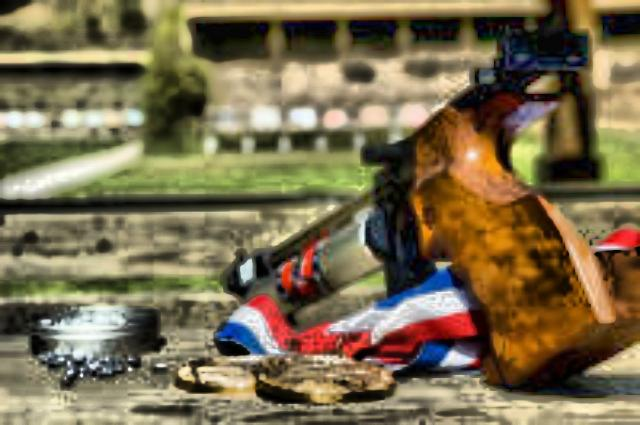pistol: (218, 23, 608, 387)
